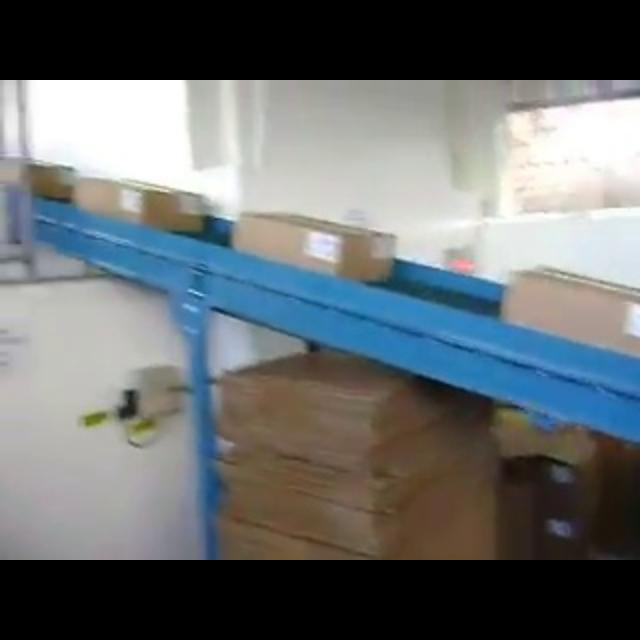Box: (498, 258, 640, 364), (228, 207, 400, 289), (70, 173, 208, 239)
